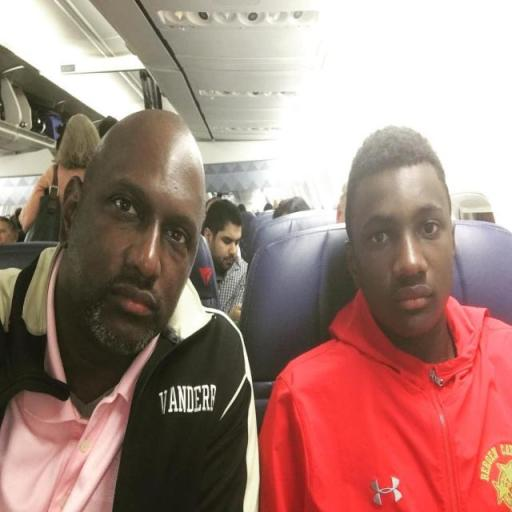Under Armour: (368, 470, 405, 510)
